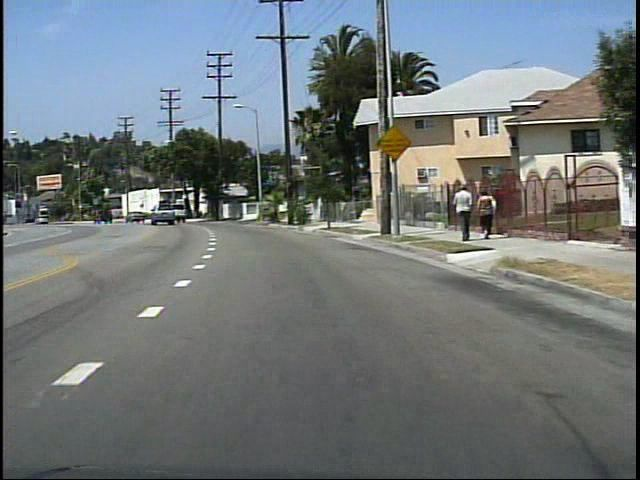person: (472, 188, 498, 242), (449, 180, 471, 243)
